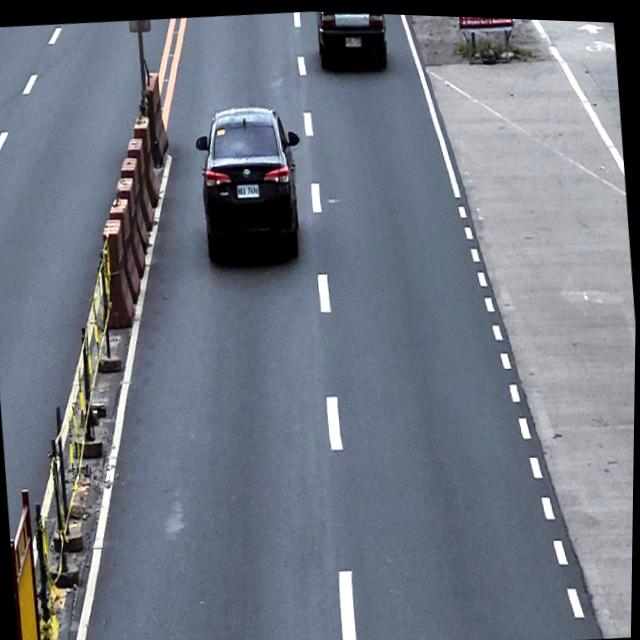Car: (191, 98, 310, 265), (314, 9, 390, 71)
License-Plate: (235, 178, 261, 198), (344, 31, 363, 47)
